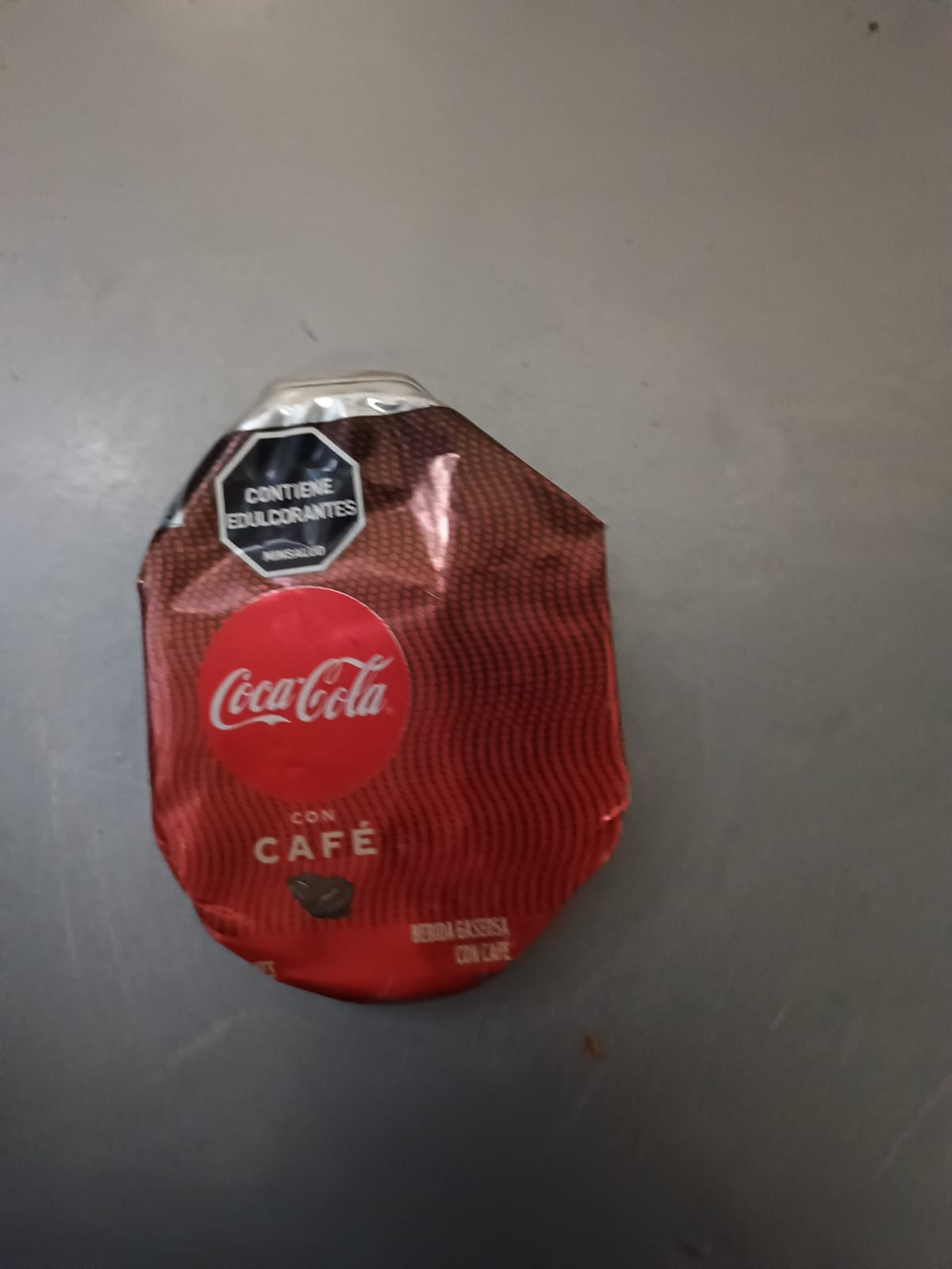Metal: (138, 377, 625, 1005)
